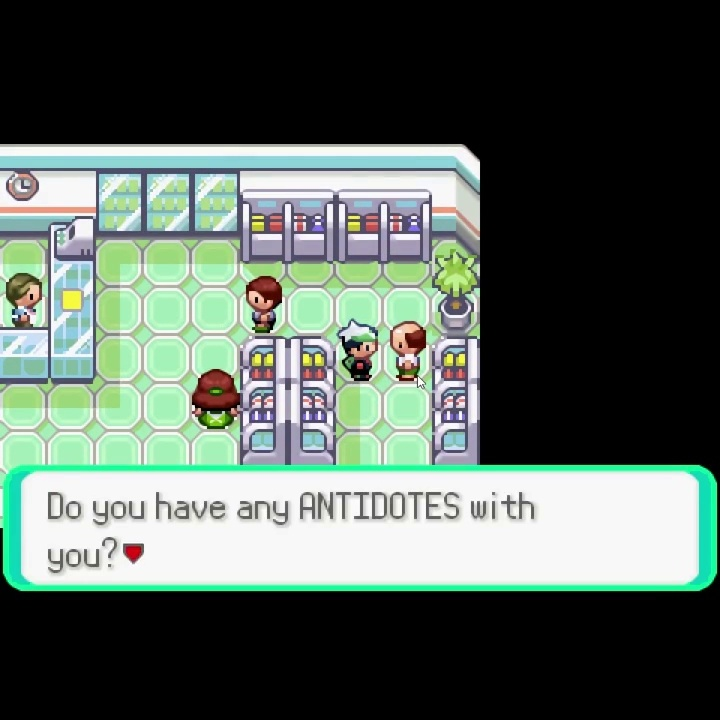agent: (337, 317, 382, 384)
npc: (189, 368, 241, 432), (387, 319, 428, 384), (243, 275, 285, 335), (4, 269, 44, 326)
